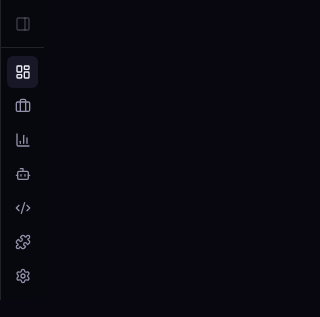
Test: ProjectRightSidebar › cycle unpinned → pinned-open expands and labels collapse
This screenshot has width=320, height=317.
Click the button named "Pin right sidebar open": (22, 24) [8,10,36,38]
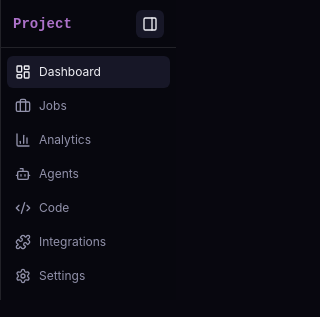
Result: the text "Project" is shown at [13,14,72,34]
Result: the button named "Collapse right sidebar" is shown at [136,10,164,38]
